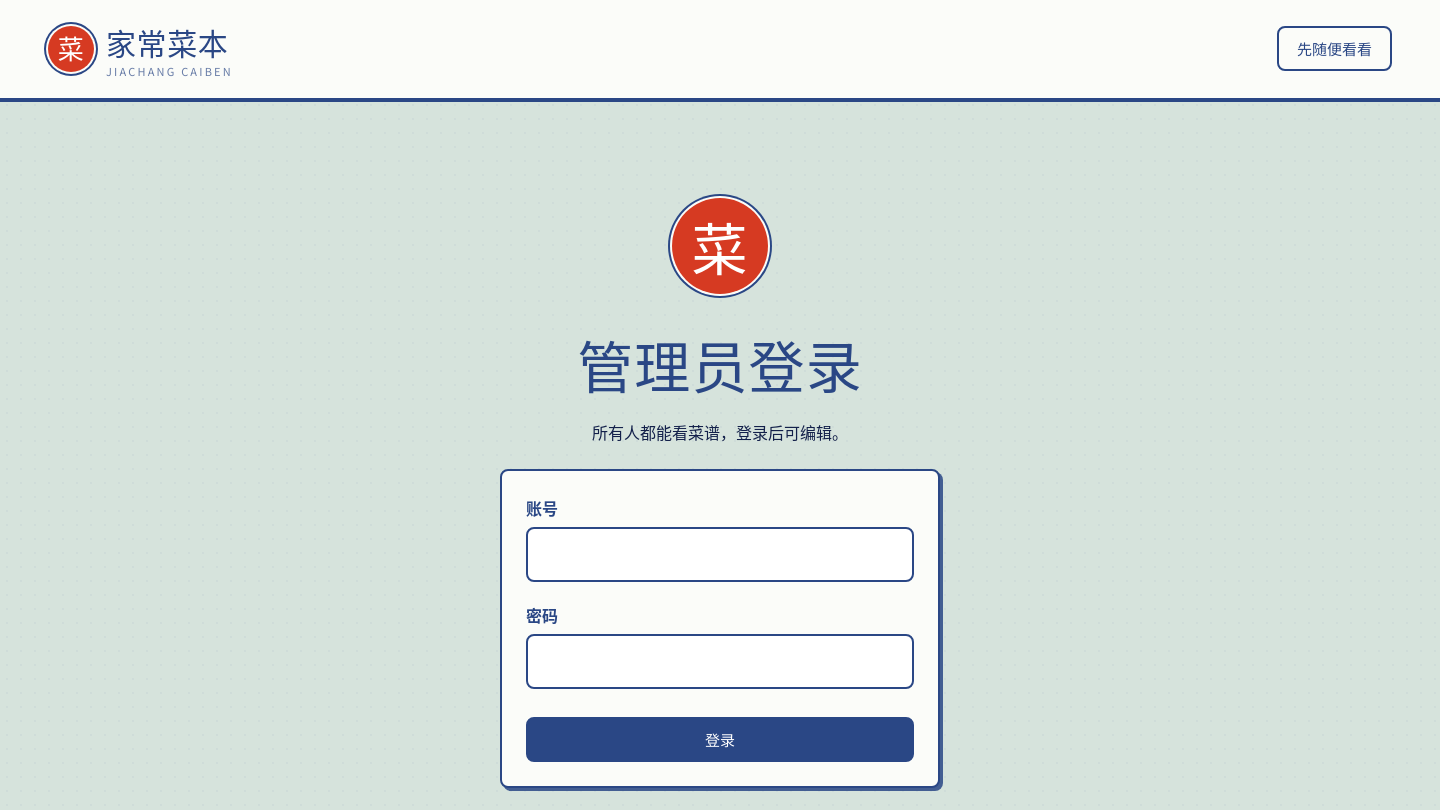
Test: shows the server's login error under the password
Expected: the heading "管理员登录" is shown, [577,323,863,404]
Expected: the text "所有人都能看菜谱，登录后可编辑。" is shown, [592,420,848,444]
In the field labelled "账号": coordinates (720, 555) [526,527,914,582], type "rende"
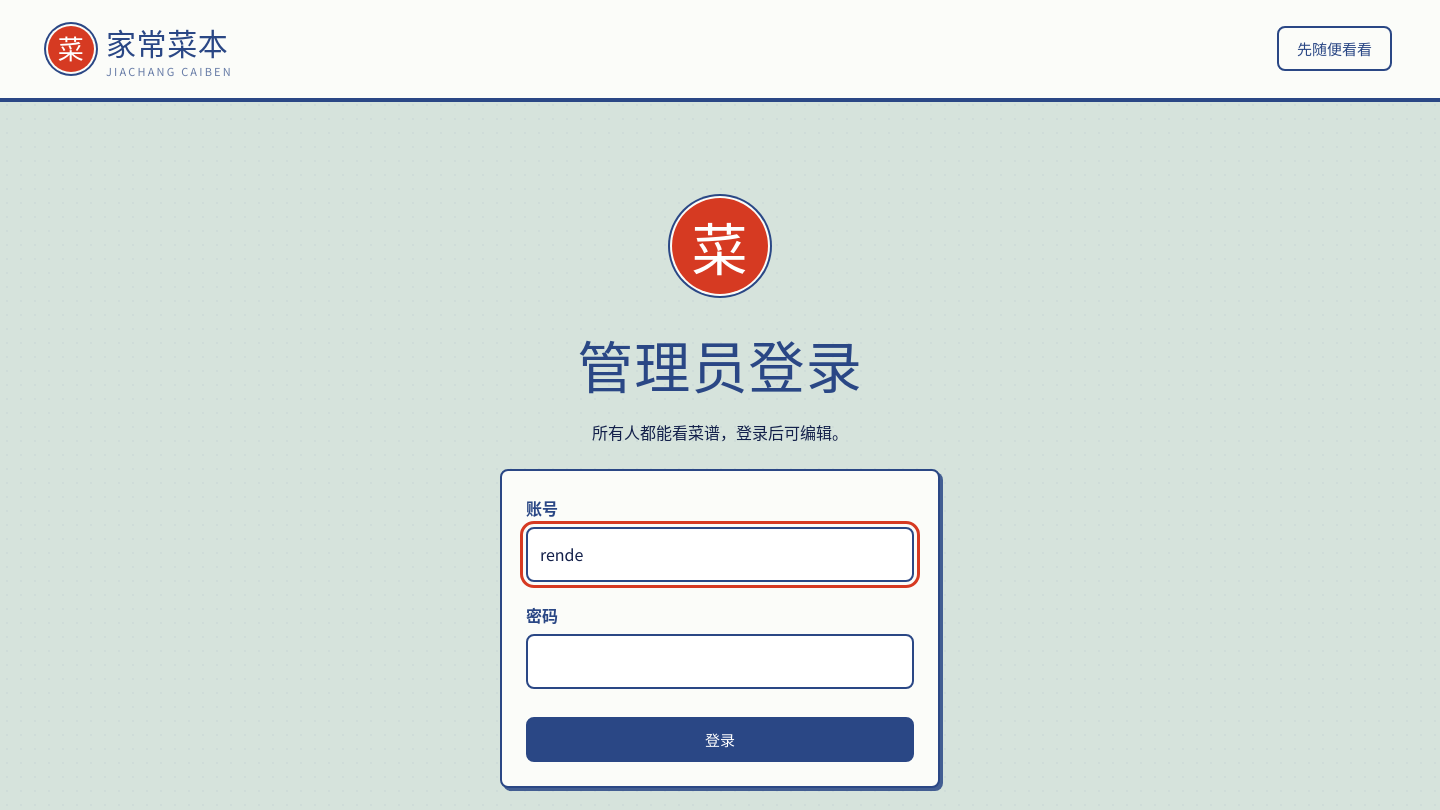
In the password field labelled "密码": coordinates (720, 661) [526,634,914,689], type "nope"
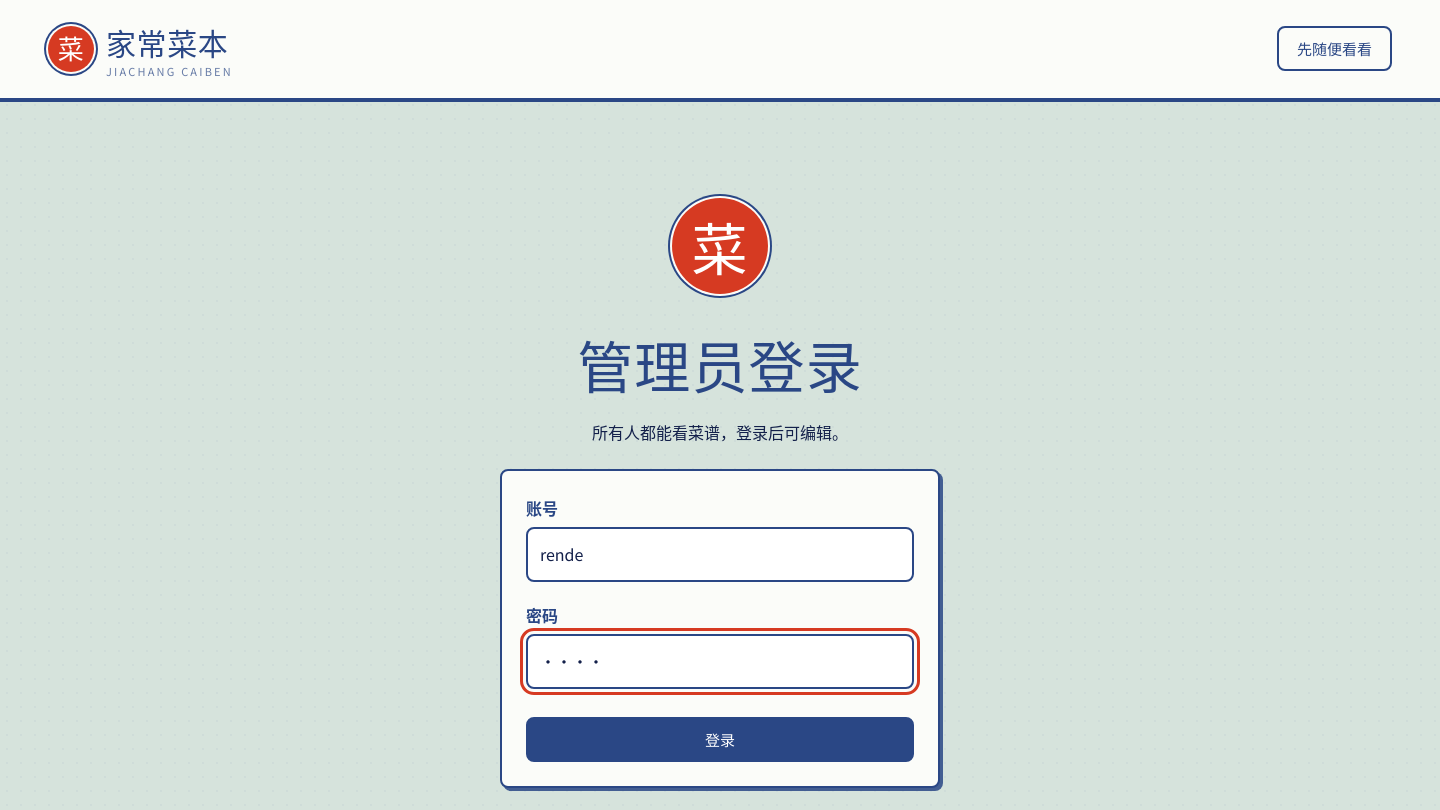
Click the button "登录": coordinates (720, 739) [526,717,914,762]
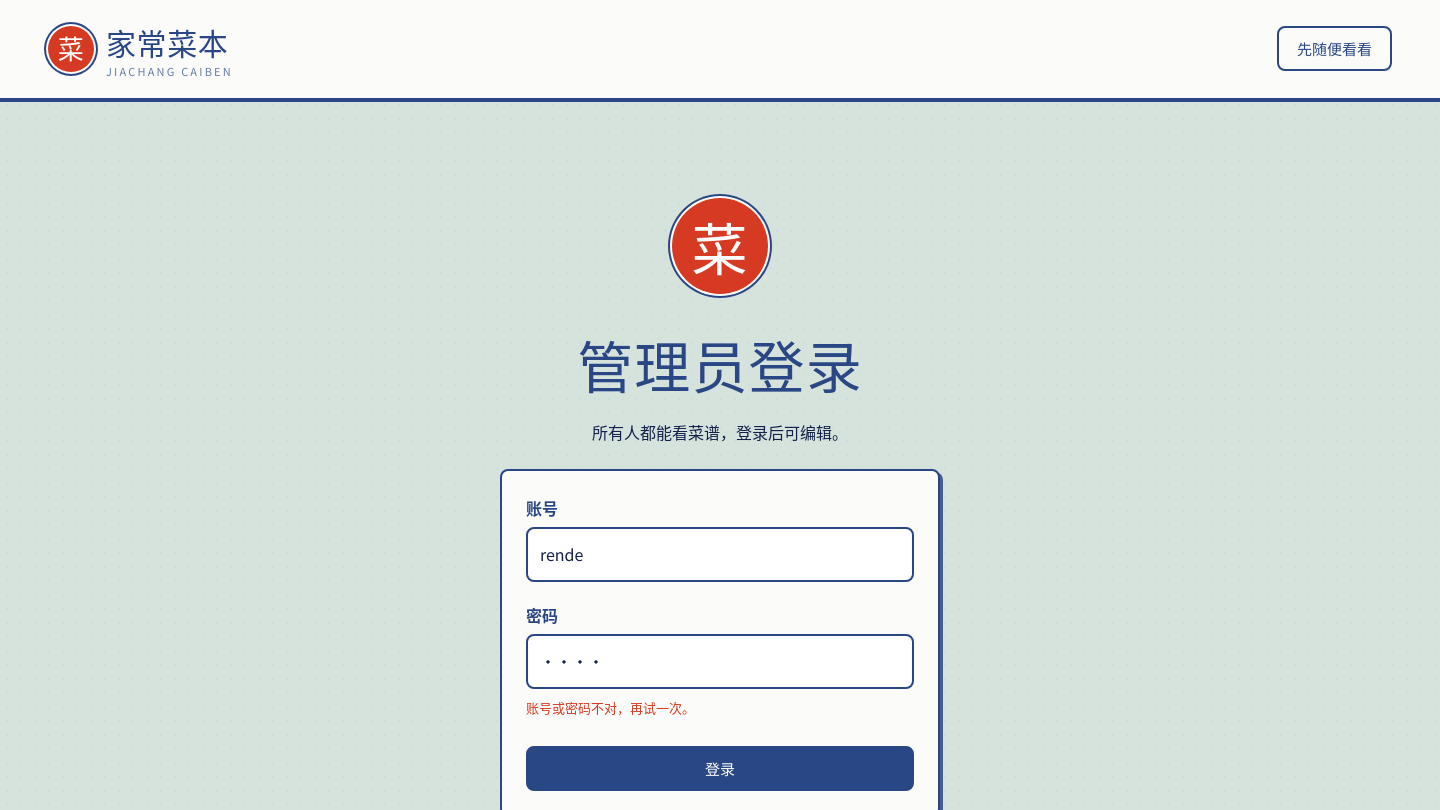
Now the text "账号或密码不对，再试一次。" is shown, box [526,698,695,717]
